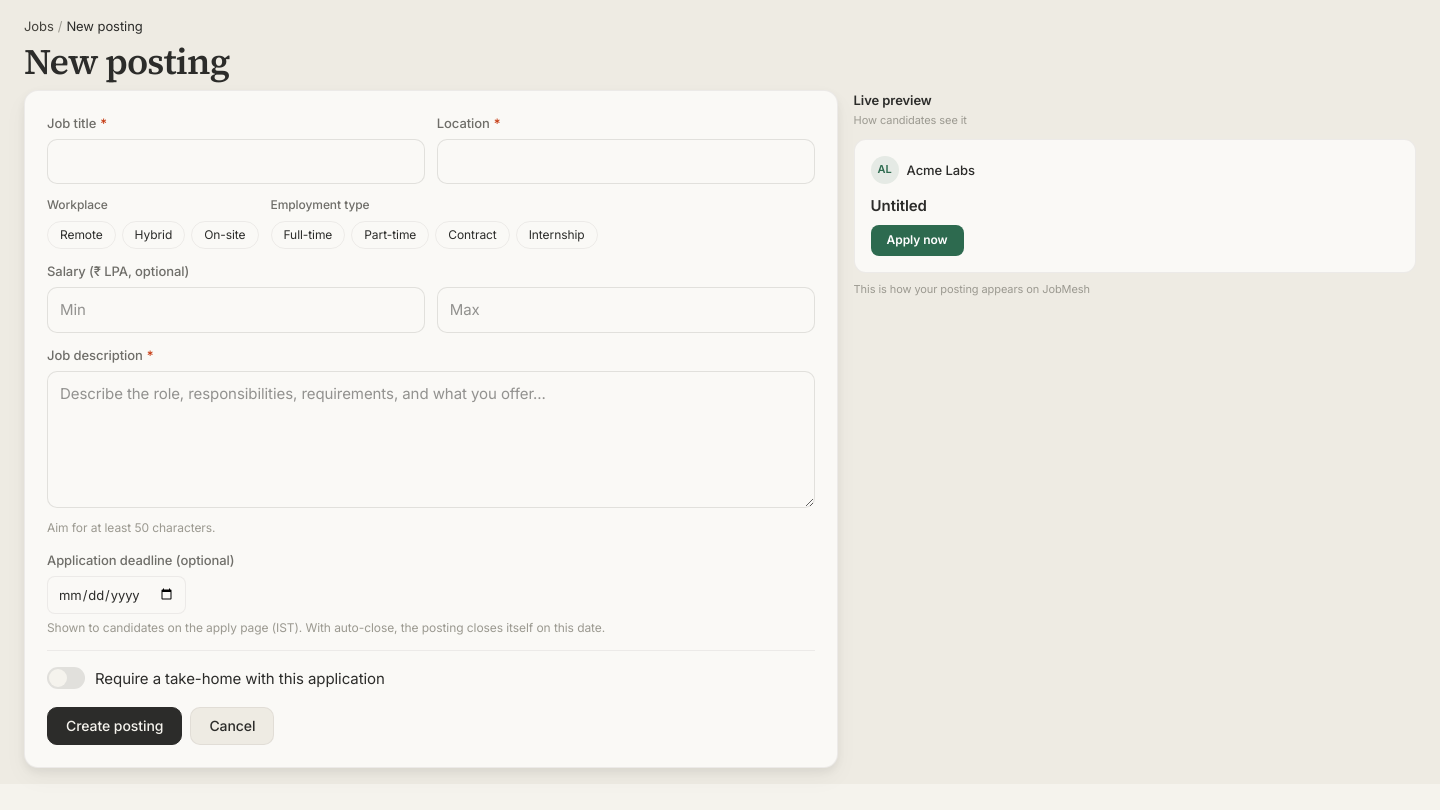
Test: New posting form › the location pill appears only when location is non-empty
Expected: the text "Bengaluru" is not shown
Type "Bengaluru" into the field labelled "Location*" at (626, 162), box [437,139,815,184]
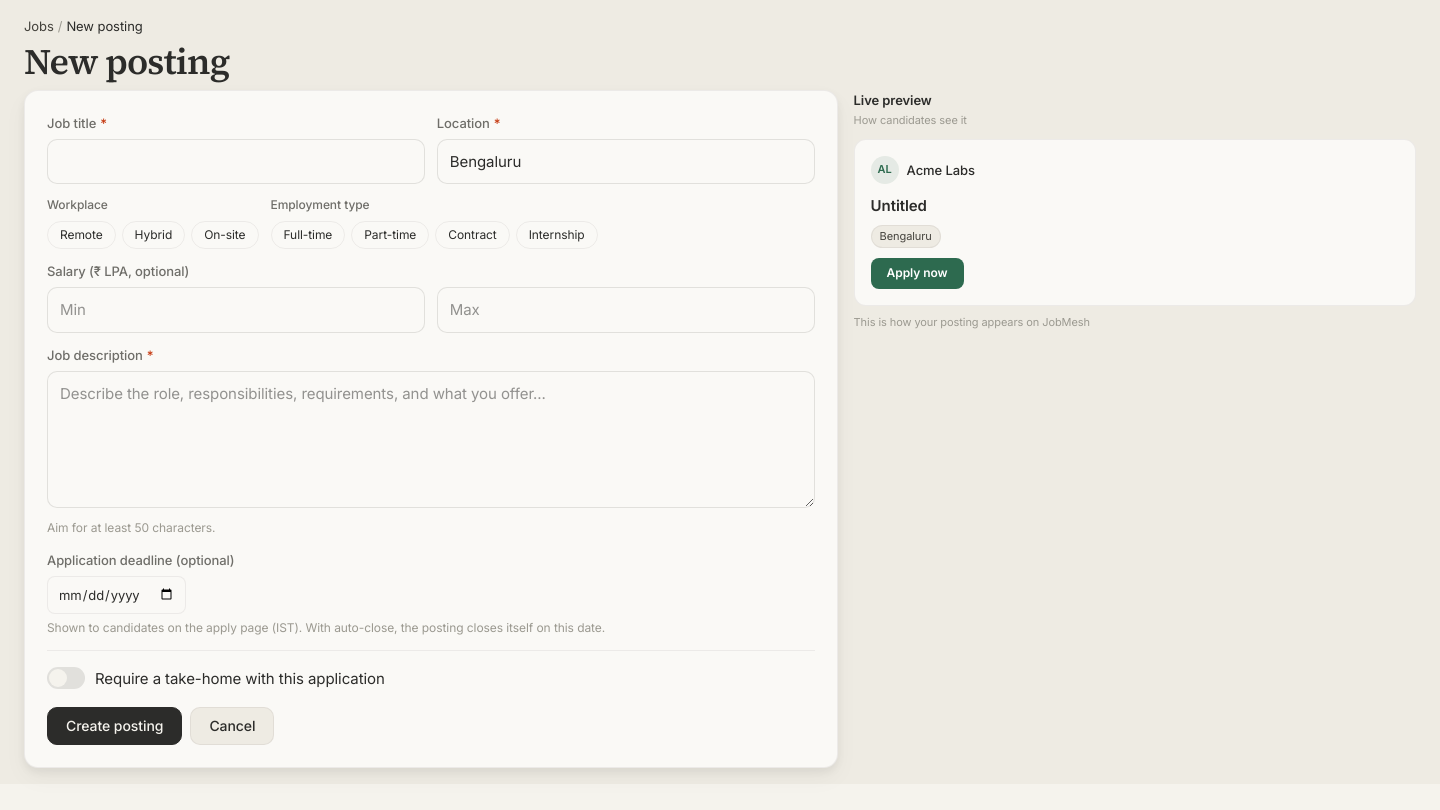
Expected: the text "Bengaluru" is shown, [871,225,941,248]
Clear the field labelled "Location*" at (626, 162), box [437,139,815,184]
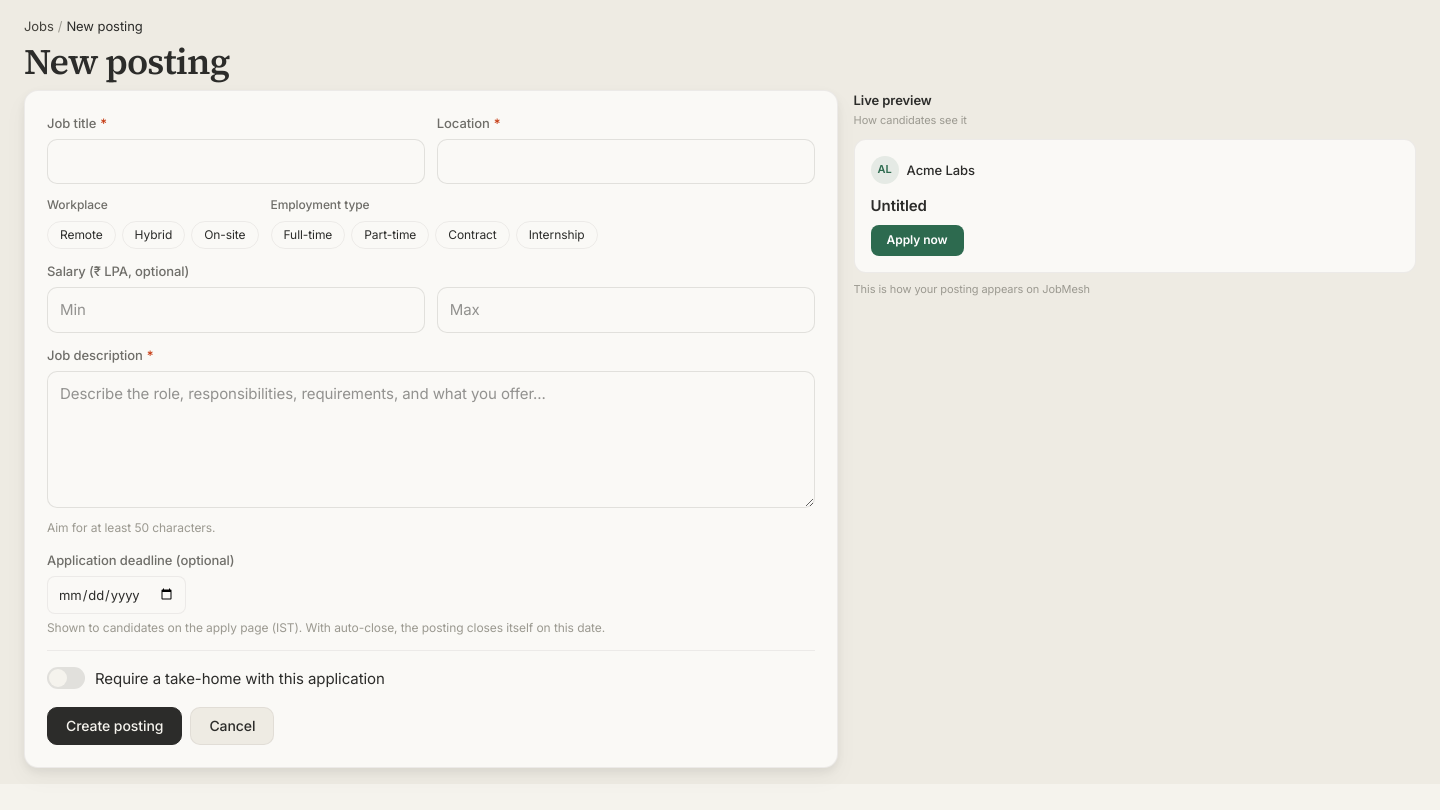
Expected: the text "Bengaluru" is gone
